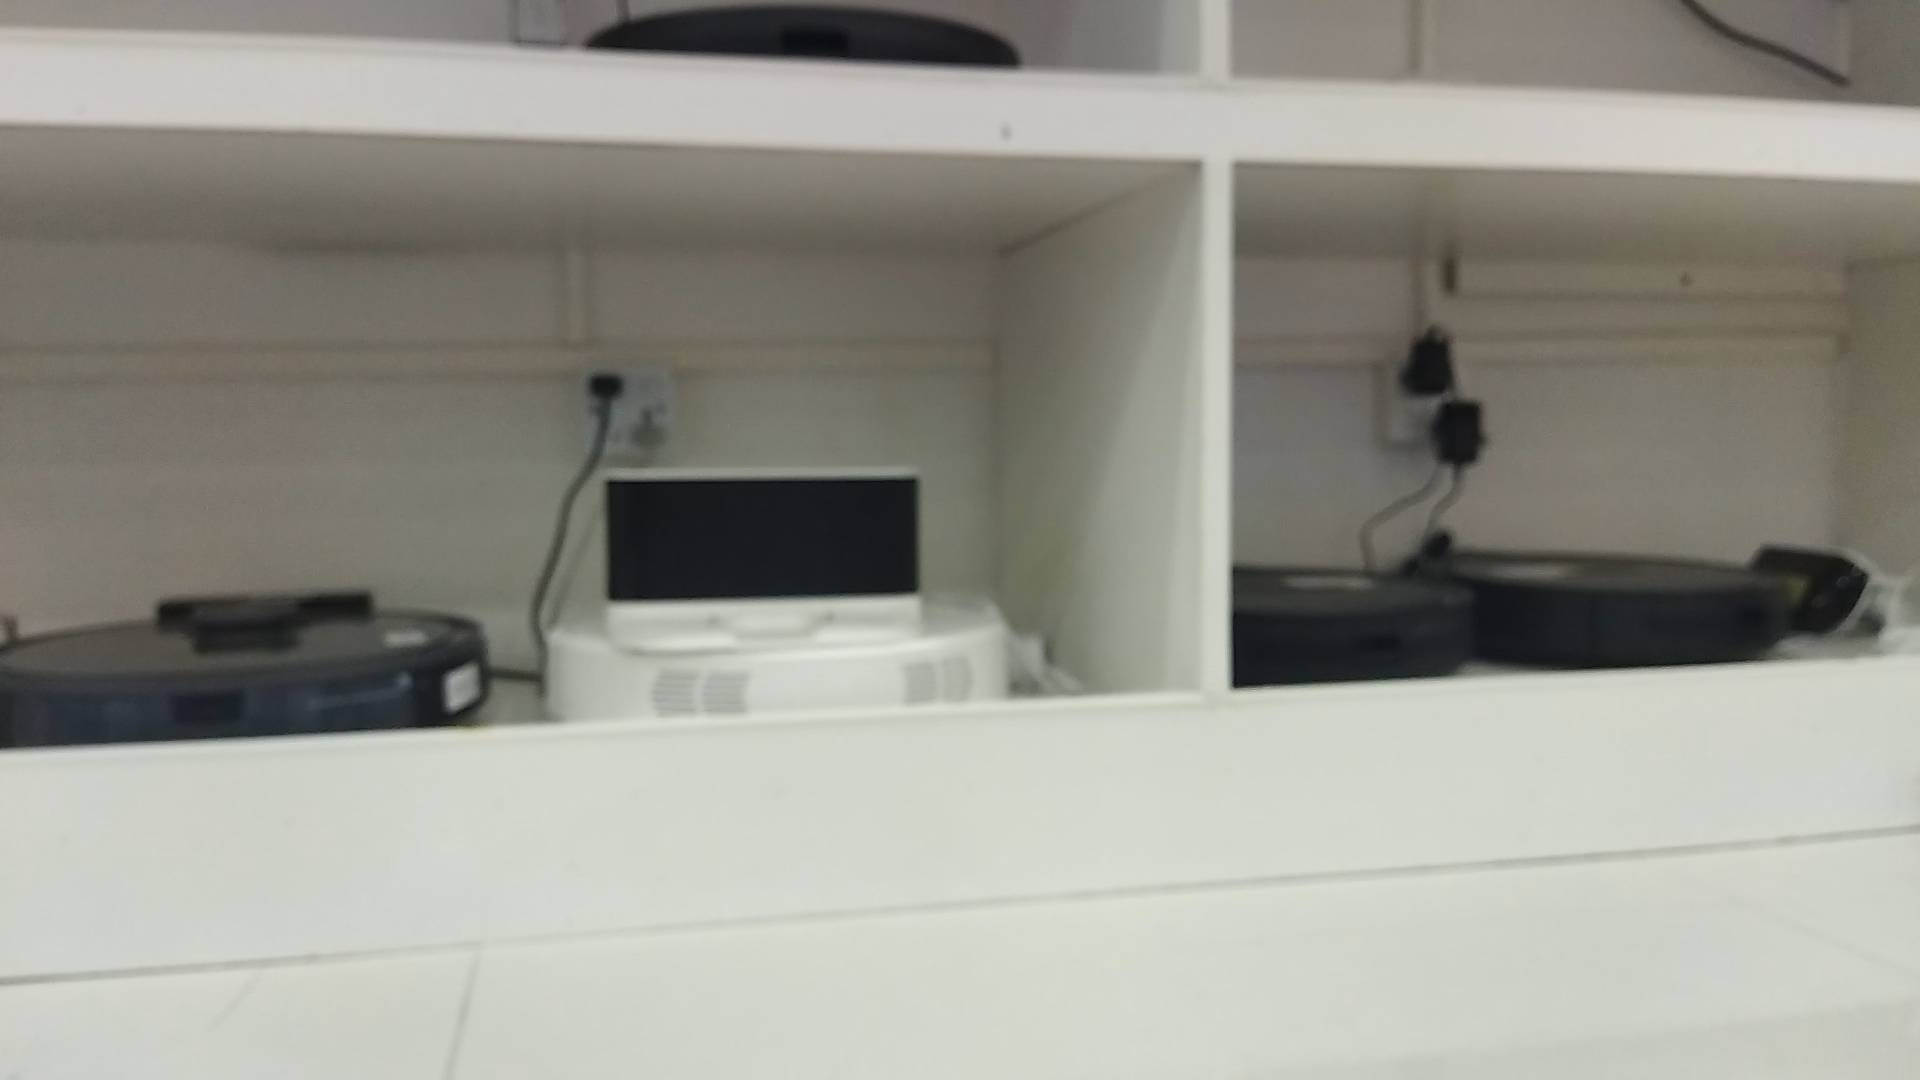recharge seat: (600, 462, 922, 654)
